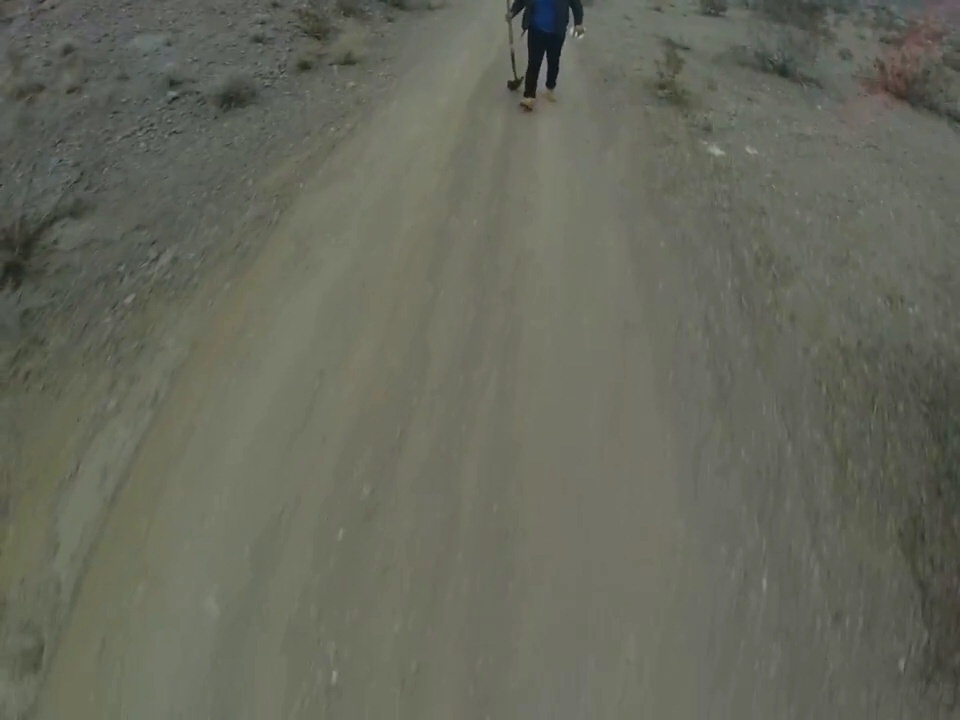insan: (497, 1, 590, 113)
